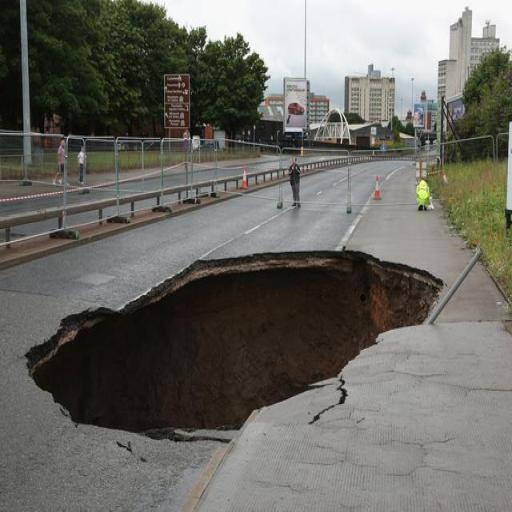Concentric_Crack: (26, 252, 442, 441)
